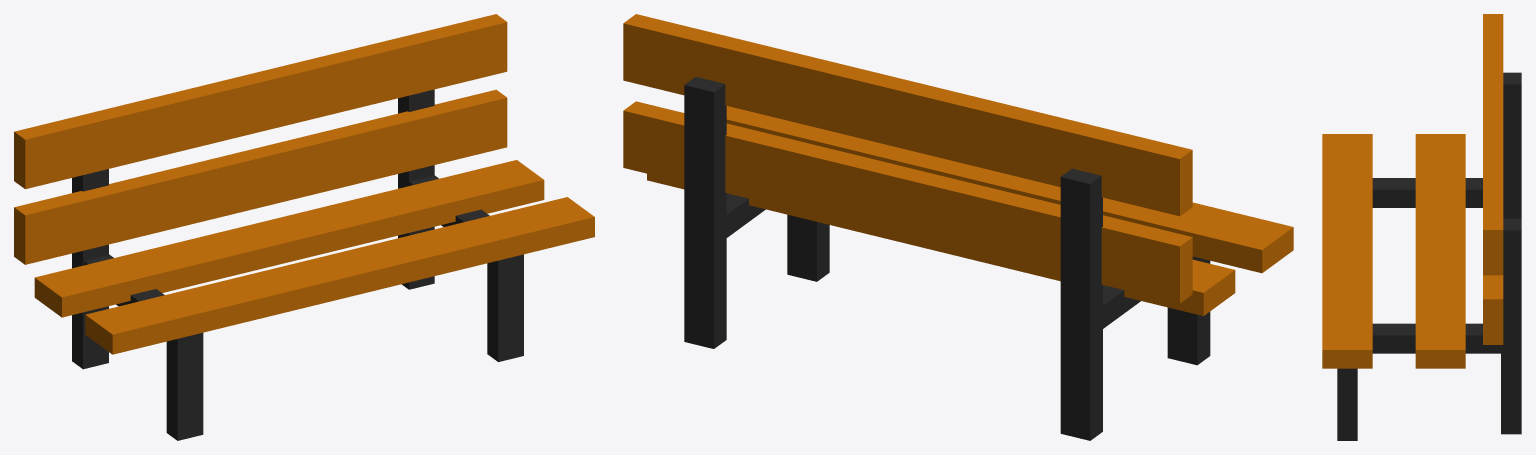
File: park_bench.fbx
The picture shows the model from 3 angles, left to right: view 1: azimuth 30°, elevation 25°; view 2: azimuth 150°, elevation 25°; view 3: azimuth 270°, elevation 25°; orthographic projection. The views are drawn at different scales.
Parts seen in each view (by area): view 1: Cube_3, Cube_2, Cube, Cube_1, Cube_9, Cube_8, Cube_7, Cube_6; view 2: Cube_3, Cube_2, Cube, Cube_7, Cube_6, Cube_1, Cube_8, Cube_9, Cube_5, Cube_4; view 3: Cube_1, Cube, Cube_3, Cube_6, Cube_7, Cube_5, Cube_4, Cube_8, Cube_2.
Boxes of the visible parts, <box> form: Cube_3: <box>14,14,507,189</box>; Cube_2: <box>14,89,507,264</box>; Cube: <box>85,197,594,354</box>; Cube_1: <box>34,160,544,317</box>; Cube_9: <box>166,332,203,440</box>; Cube_8: <box>487,254,523,361</box>; Cube_7: <box>72,169,108,369</box>; Cube_6: <box>398,89,434,289</box>; Cube_3: <box>623,14,1192,216</box>; Cube_2: <box>623,101,1192,303</box>; Cube: <box>726,106,1293,273</box>; Cube_7: <box>1060,168,1102,440</box>; Cube_6: <box>684,77,726,348</box>; Cube_1: <box>647,173,1235,315</box>; Cube_8: <box>787,214,829,281</box>; Cube_9: <box>1167,258,1210,365</box>; Cube_5: <box>726,193,765,237</box>; Cube_4: <box>1103,256,1199,328</box>; Cube_1: <box>1415,134,1465,368</box>; Cube: <box>1322,134,1372,368</box>; Cube_3: <box>1483,14,1503,275</box>; Cube_6: <box>1501,218,1521,434</box>; Cube_7: <box>1503,72,1521,218</box>; Cube_5: <box>1372,323,1505,353</box>; Cube_4: <box>1372,178,1505,207</box>; Cube_8: <box>1337,368,1357,440</box>; Cube_2: <box>1483,275,1503,344</box>.
Bounding box in the file's own units: 329 × 170 × 128.
